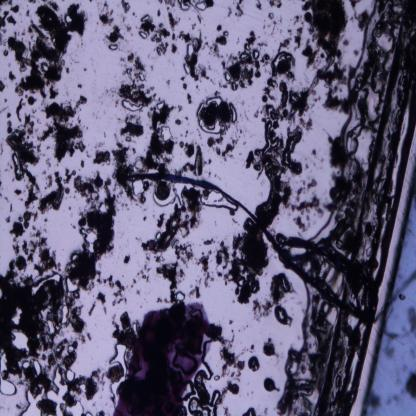Air bubble: (49, 365, 68, 415), (183, 381, 206, 416), (200, 191, 238, 212), (0, 352, 18, 396), (21, 386, 45, 416), (78, 227, 100, 254), (10, 326, 31, 352), (202, 389, 221, 416), (198, 121, 226, 133), (119, 99, 143, 112), (204, 95, 223, 108), (239, 41, 251, 58), (229, 102, 238, 124), (181, 61, 193, 76), (160, 126, 172, 141), (32, 361, 43, 376), (178, 1, 191, 12), (186, 44, 196, 58), (196, 101, 204, 117), (176, 290, 185, 304), (108, 40, 119, 51), (194, 1, 206, 11), (66, 370, 76, 381), (139, 29, 148, 41), (22, 358, 31, 370), (138, 71, 146, 82), (156, 101, 165, 110), (64, 14, 73, 23), (141, 14, 151, 22), (224, 72, 232, 82), (42, 64, 50, 71)
Background material: (274, 281, 346, 416), (14, 0, 86, 98), (66, 191, 118, 293), (256, 118, 306, 220), (0, 271, 62, 352), (1, 115, 40, 207), (37, 98, 86, 162), (232, 220, 268, 306), (223, 28, 270, 91), (302, 0, 349, 51), (141, 105, 177, 167), (140, 202, 182, 254), (207, 321, 243, 374), (24, 230, 60, 279), (113, 142, 136, 202), (152, 10, 181, 52), (65, 373, 101, 404), (40, 169, 64, 215), (154, 264, 181, 302), (267, 50, 294, 87), (178, 188, 204, 226), (198, 99, 232, 126), (268, 274, 294, 308), (184, 21, 207, 57), (120, 84, 156, 107), (74, 173, 107, 197), (106, 270, 128, 306), (171, 235, 196, 266), (252, 295, 273, 329), (118, 53, 142, 79), (214, 237, 229, 278), (66, 306, 87, 335), (59, 336, 77, 369), (121, 118, 145, 142), (290, 201, 324, 217), (197, 254, 213, 288), (0, 5, 19, 28), (243, 147, 261, 171), (104, 25, 127, 43), (221, 136, 238, 160), (139, 254, 153, 283), (272, 309, 292, 328), (106, 362, 125, 382), (92, 147, 112, 166), (96, 8, 116, 26), (39, 399, 58, 416), (152, 210, 168, 230), (210, 36, 223, 60), (179, 139, 195, 158), (188, 282, 204, 301), (136, 181, 148, 206), (42, 166, 54, 190), (61, 168, 76, 185), (198, 60, 211, 79), (49, 83, 60, 104), (278, 36, 292, 52), (246, 356, 260, 372), (157, 0, 178, 10), (129, 270, 138, 293), (295, 210, 306, 228), (94, 290, 107, 305), (16, 98, 24, 122), (243, 406, 262, 416), (306, 176, 317, 193), (200, 236, 217, 247), (235, 1, 244, 20), (5, 66, 17, 80), (296, 26, 304, 47), (296, 180, 306, 196), (12, 234, 20, 254), (121, 0, 132, 14), (291, 13, 302, 26), (121, 250, 132, 263), (29, 209, 39, 222), (267, 1, 283, 9), (6, 120, 14, 136), (0, 76, 6, 96), (4, 159, 12, 174), (341, 36, 351, 48), (0, 105, 10, 117), (94, 139, 104, 151), (89, 301, 96, 317), (164, 76, 173, 88), (271, 16, 278, 31), (184, 91, 192, 104), (310, 143, 318, 156), (286, 25, 294, 37), (252, 108, 260, 120), (306, 117, 314, 129), (248, 341, 256, 353), (219, 58, 228, 68), (13, 189, 23, 198), (0, 139, 5, 156), (0, 32, 6, 46), (216, 21, 223, 33), (8, 36, 15, 48), (9, 259, 16, 271), (125, 22, 132, 34), (212, 88, 221, 97), (173, 117, 182, 126), (154, 254, 164, 262), (206, 0, 217, 7), (256, 0, 263, 11), (99, 407, 107, 416), (22, 221, 30, 230), (352, 48, 359, 58), (86, 332, 92, 343), (4, 111, 12, 119), (268, 12, 276, 20), (252, 51, 261, 58), (196, 12, 201, 24), (103, 0, 110, 8), (262, 17, 266, 31), (2, 48, 9, 56), (1, 0, 12, 5), (228, 7, 233, 17), (28, 0, 36, 6), (9, 203, 13, 213), (151, 64, 156, 72), (177, 102, 182, 110), (142, 214, 147, 222), (220, 83, 227, 88), (78, 83, 83, 90), (25, 10, 30, 17), (135, 288, 139, 296), (157, 10, 161, 18), (66, 66, 70, 74), (185, 115, 190, 121), (3, 98, 7, 105), (184, 129, 188, 136), (44, 217, 49, 222), (237, 130, 242, 135), (183, 84, 188, 89), (83, 67, 88, 72), (6, 217, 10, 223), (182, 78, 186, 82), (134, 12, 137, 17), (82, 164, 85, 168)
Cellulose filter fibre: (286, 48, 337, 124)
Cotton: (123, 170, 380, 320)
Diatom: (192, 145, 203, 176), (154, 182, 170, 200), (262, 340, 276, 358), (13, 40, 27, 55), (14, 254, 27, 270), (229, 381, 241, 396), (12, 222, 23, 237), (264, 378, 274, 392), (303, 10, 313, 23), (218, 34, 227, 45), (23, 211, 32, 222), (207, 137, 215, 149), (27, 96, 35, 107), (149, 238, 156, 249), (272, 121, 280, 130), (262, 94, 268, 104), (65, 186, 72, 194)
Easylift tab: (350, 113, 416, 414)
Edge of slide: (329, 0, 408, 414)
Pen: (117, 302, 208, 416)
